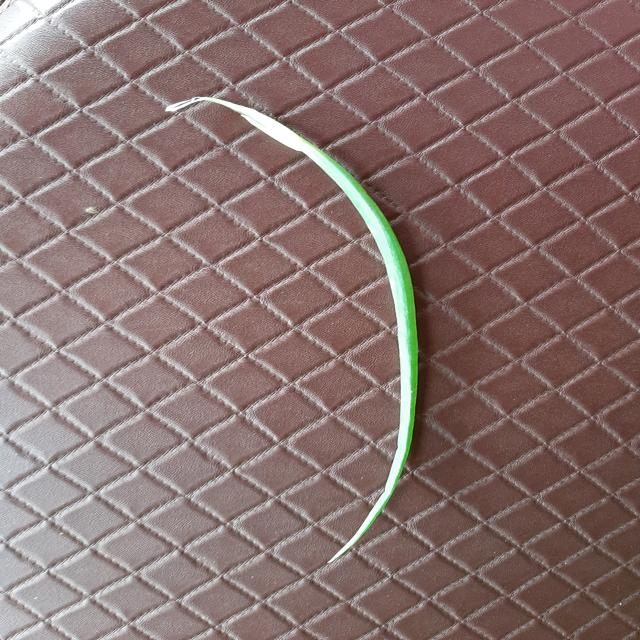onion: (165, 96, 417, 561)
